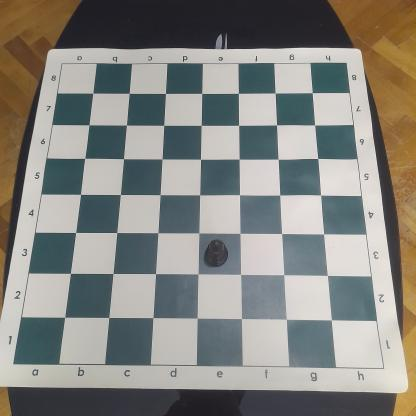black-bishop: (203, 238, 231, 268)
